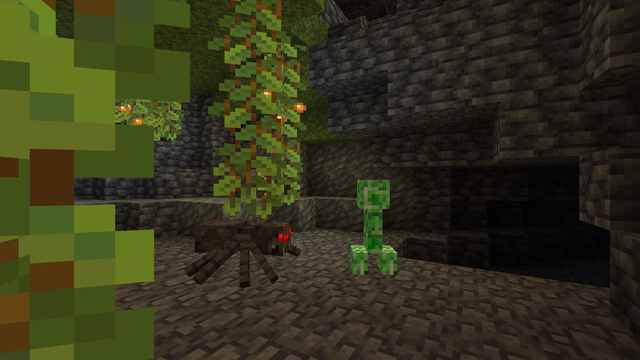araignees: (192, 212, 302, 288)
creepers: (350, 175, 392, 278)
